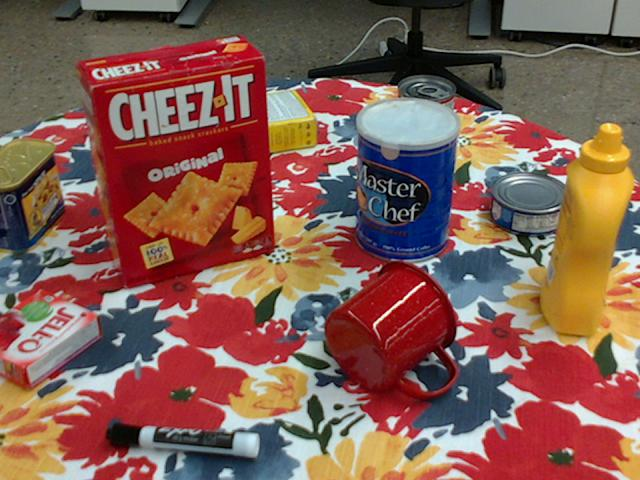cracker_box: (74, 36, 271, 285)
gelatin_box: (0, 289, 102, 389)
large_marker: (105, 421, 259, 458)
master_chef_can: (356, 98, 459, 264)
mug: (325, 260, 459, 397)
mustard_bottle: (538, 125, 631, 336)
potted_meat_can: (0, 137, 62, 251)
sugar_box: (161, 90, 315, 167)
tomato_soup_can: (394, 76, 454, 177)
tuna_fish_can: (489, 174, 570, 238)
